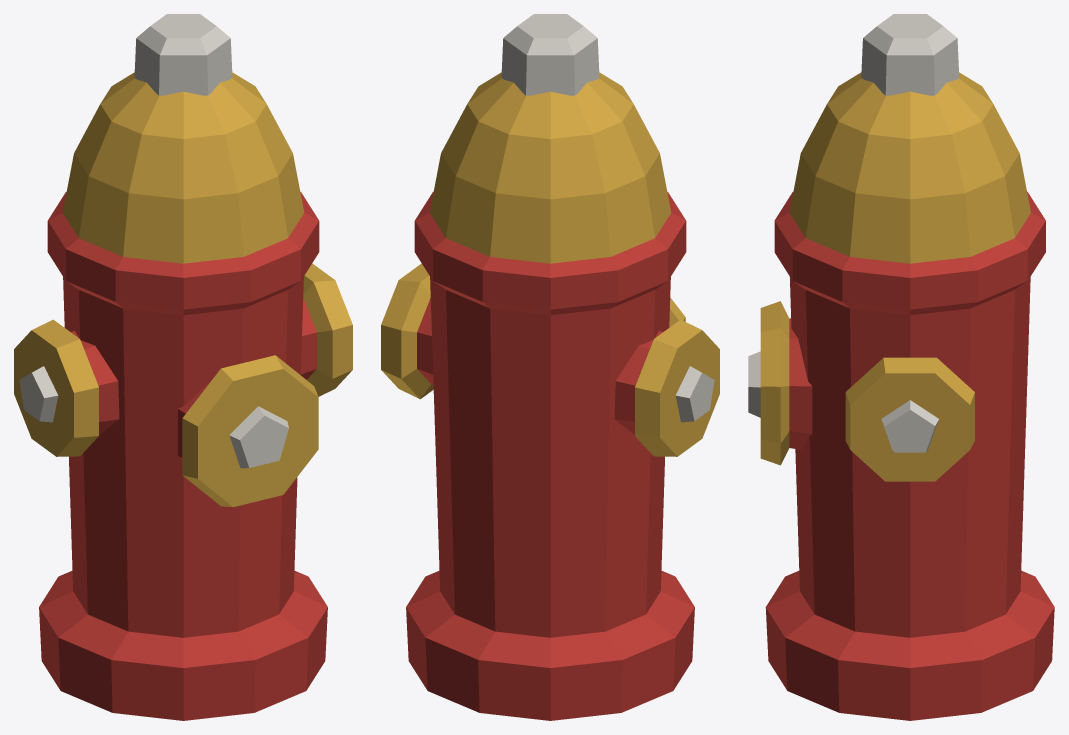
The model's file is yangin_muslugu.glb.
The picture shows the model from 3 angles, left to right: view 1: azimuth 30°, elevation 25°; view 2: azimuth 150°, elevation 25°; view 3: azimuth 270°, elevation 25°; orthographic projection.
Parts seen in each view (by area): view 1: yangin_muslugu; view 2: yangin_muslugu; view 3: yangin_muslugu.
Part boxes in pixels (<box>): yangin_muslugu: <box>14,14,352,720</box>; yangin_muslugu: <box>381,14,719,720</box>; yangin_muslugu: <box>748,14,1054,720</box>.
Bounding box in the file's own units: 0.4 × 0.8 × 0.35.
